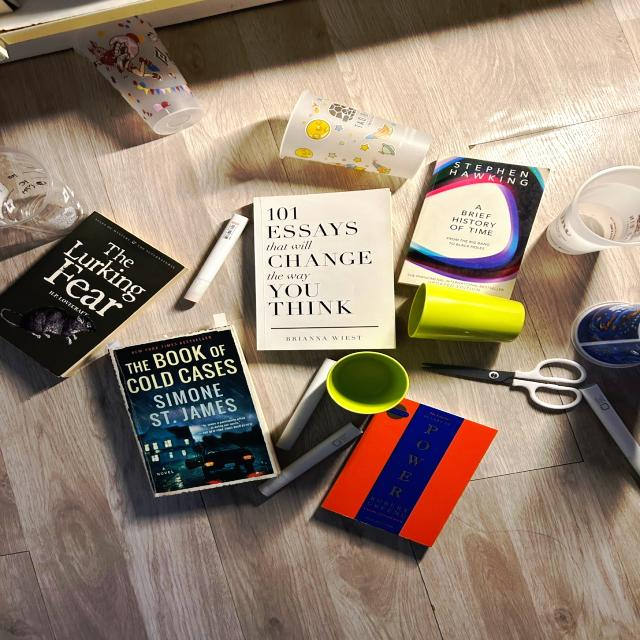Book: (107, 313, 279, 496), (0, 212, 185, 379), (321, 399, 497, 546), (254, 189, 393, 350), (399, 154, 548, 298)
HighLight Pen: (259, 423, 361, 497), (185, 214, 247, 302), (277, 359, 336, 449), (581, 384, 639, 475)
Plastic Cup: (75, 16, 204, 135), (280, 91, 432, 179), (546, 166, 639, 254), (0, 145, 86, 237), (572, 303, 639, 367)
Scissors: (422, 358, 586, 410)
WaterGlass: (408, 283, 524, 342), (327, 352, 408, 414)
